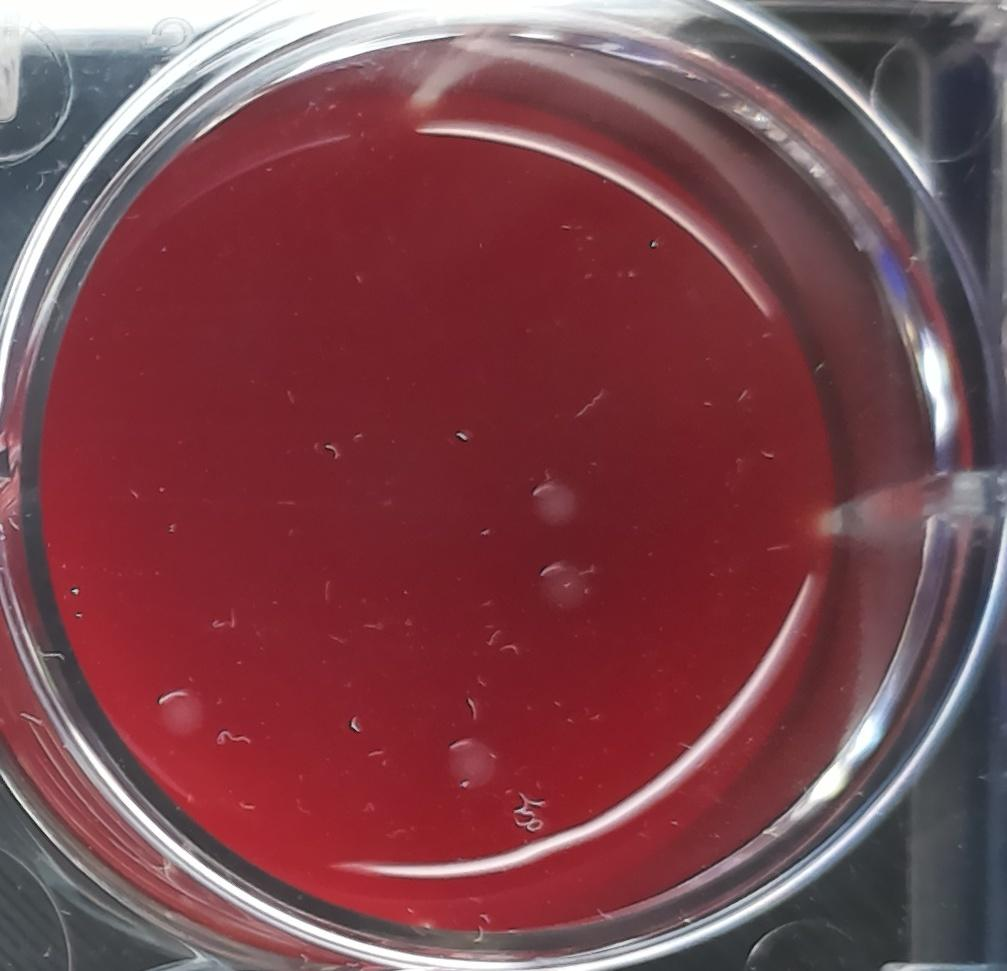vharveyi: (154, 680, 209, 744), (526, 470, 582, 531), (530, 555, 586, 613), (441, 732, 493, 785)
